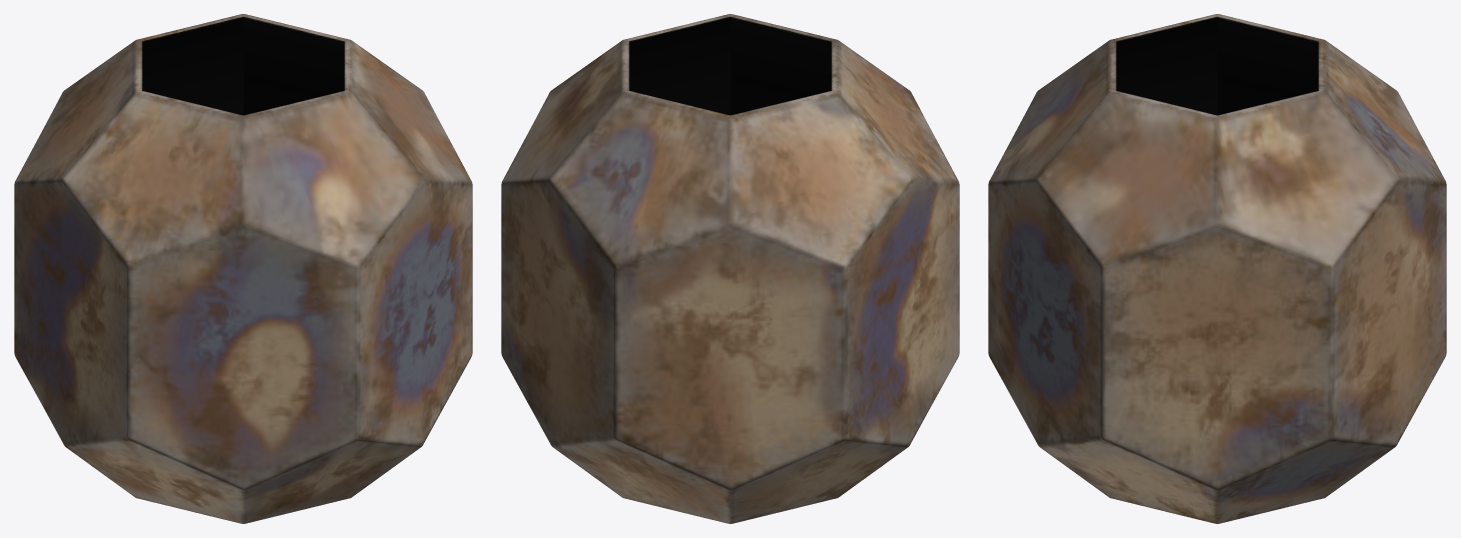
Rendered from B07HSK628P.glb.
The picture shows the model from 3 angles, left to right: view 1: azimuth 30°, elevation 25°; view 2: azimuth 150°, elevation 25°; view 3: azimuth 270°, elevation 25°; orthographic projection.
Parts seen in each view (by area): view 1: RootNode; view 2: RootNode; view 3: RootNode.
Boxes of the visible parts, left/top/right/bottom form: RootNode: left=14, top=14, right=472, bottom=523; RootNode: left=501, top=14, right=959, bottom=523; RootNode: left=988, top=14, right=1446, bottom=523.
Bounding box in the file's own units: 0.2214 × 0.2377 × 0.2432.
Materials: 1 (1 with a texture image).
